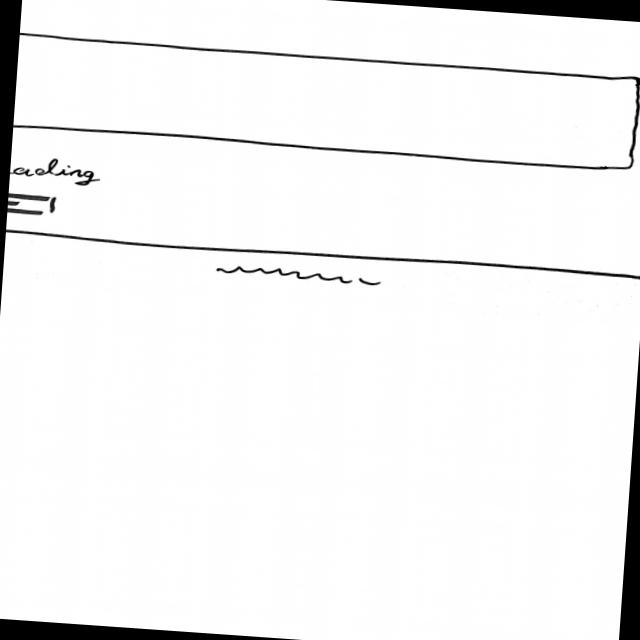container: (13, 29, 640, 178)
icon-button: (8, 190, 60, 217)
input: (10, 156, 105, 189)
text: (207, 264, 385, 289)
